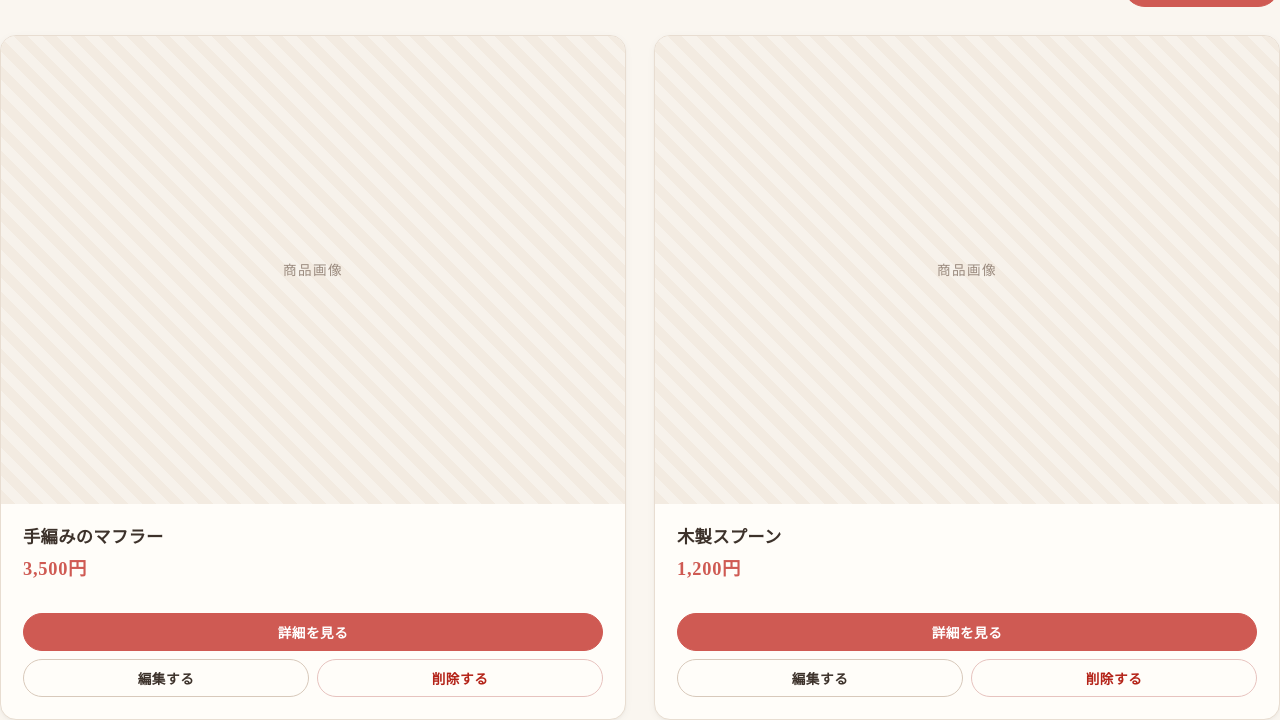
Test: 商品一覧画面：商品削除 › 確認ダイアログでOKを押すと削除し、その商品だけ一覧から消えて完了メッセージを表示する
(page scrolled)
Click the button with aria-label "木製スプーンを削除する": [1114, 678] box top-left (971, 659), bottom-right (1257, 697)
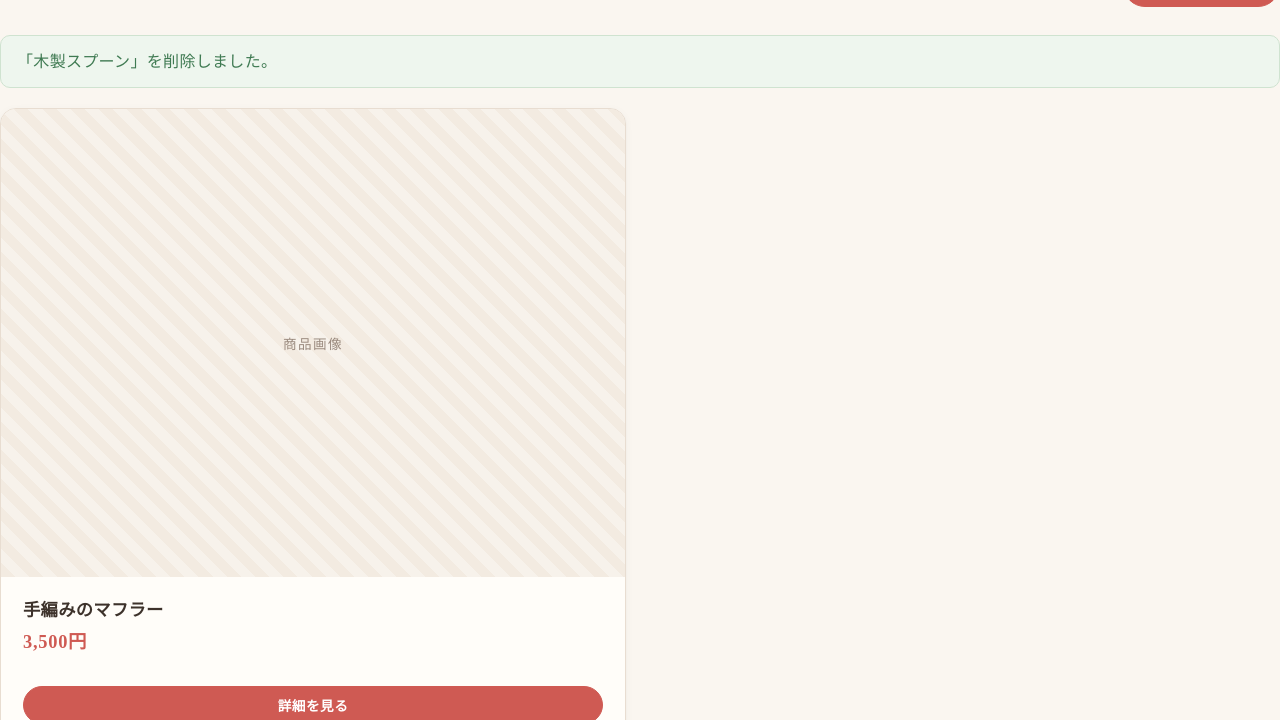
Expected: the heading "手編みのマフラー" is shown, top-left (23, 598), bottom-right (164, 621)
Result: the text "「木製スプーン」を削除しました。" is shown at top-left (0, 35), bottom-right (1279, 88)
